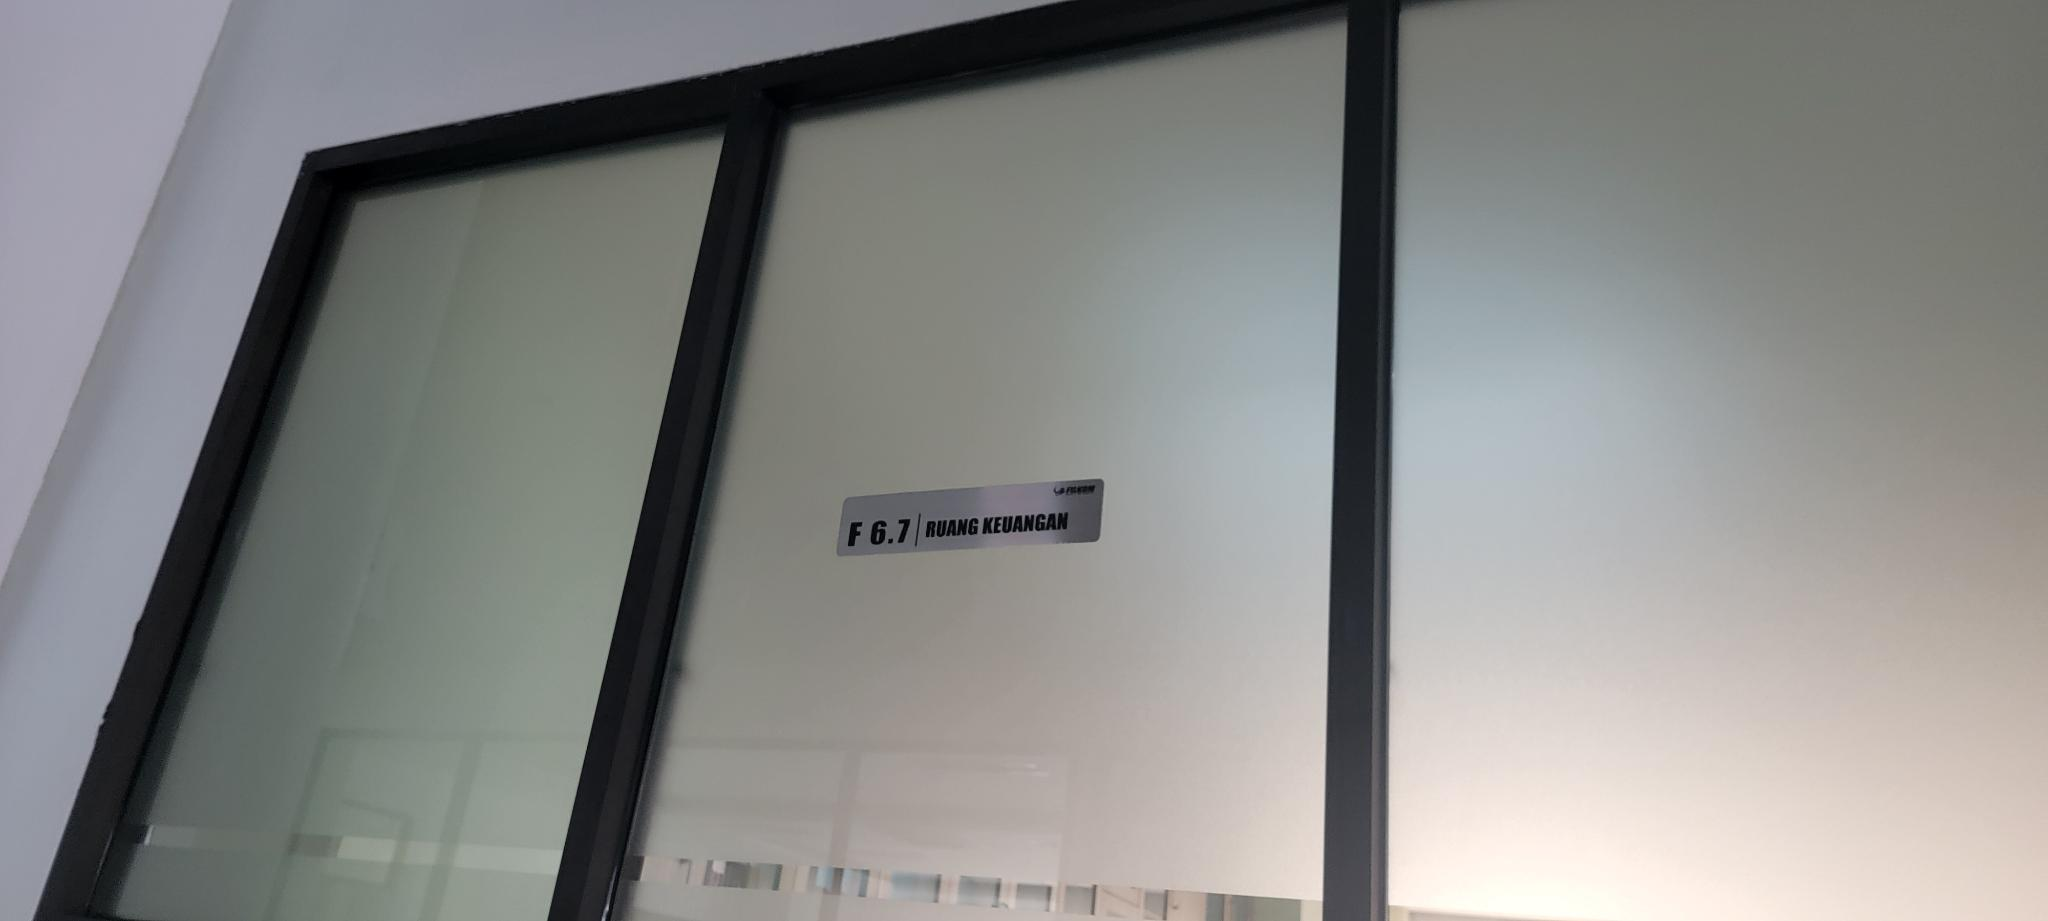plate: (836, 478, 1105, 559)
